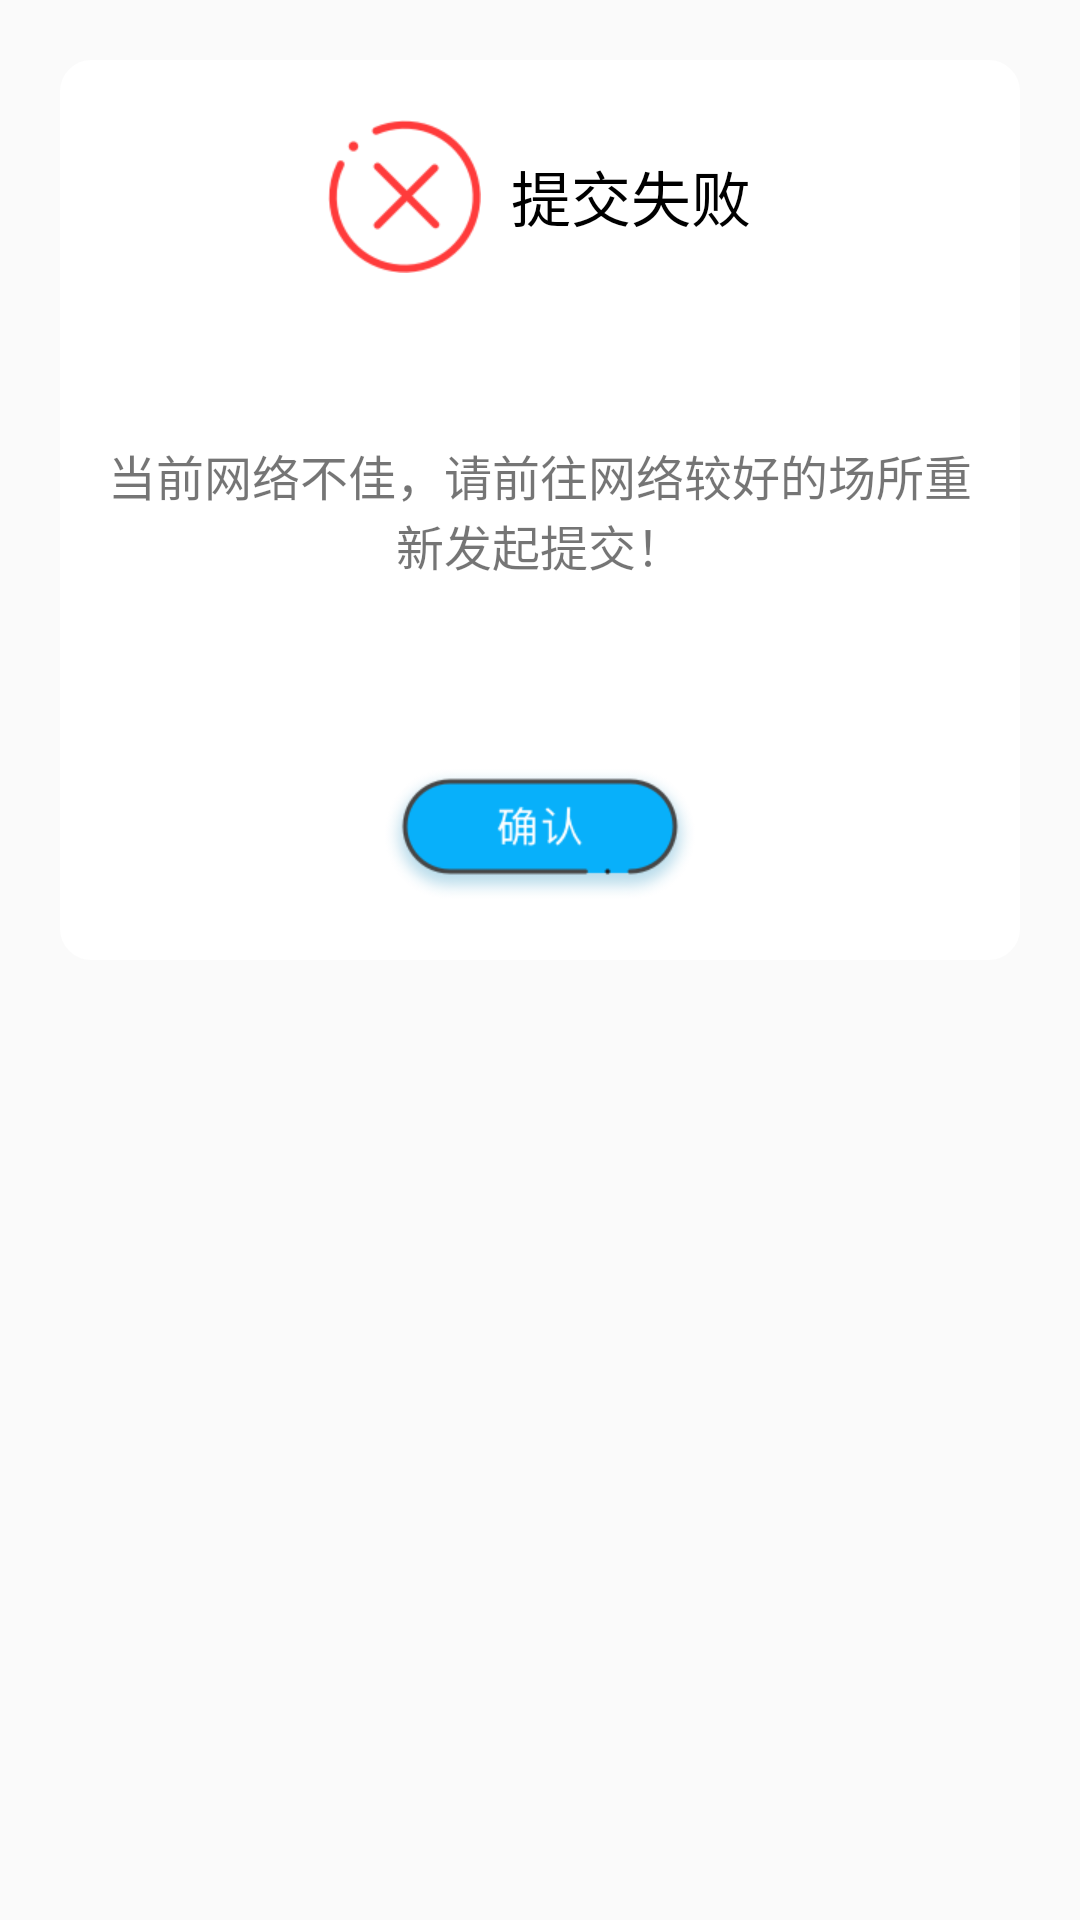

Screen size 1080px x 1920px. Icon name, then its box in pixels as [x1=x1, y1=y1, x2=x2, y2=y2]:
fail: [x1=328, y1=120, x2=481, y2=273]
